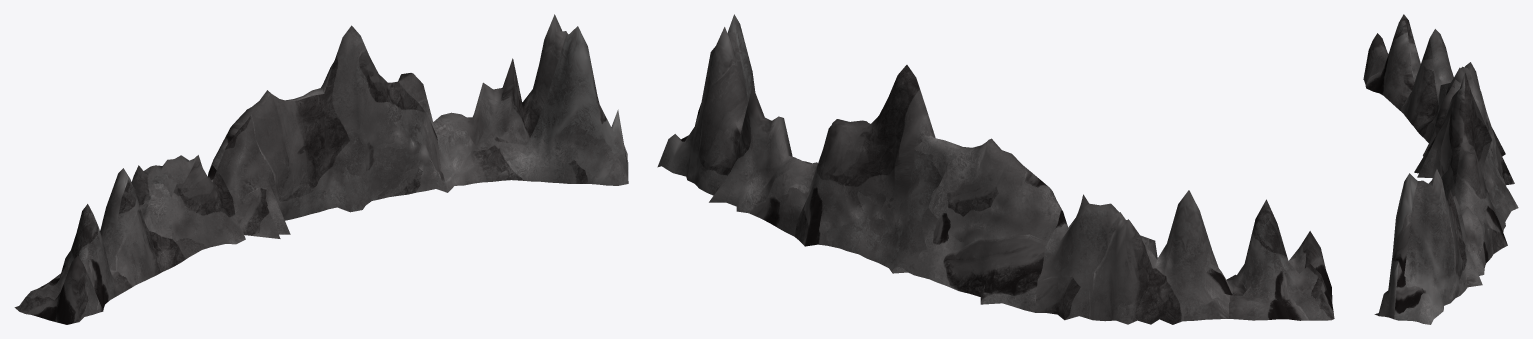
File: PedrasPontiagudas.fbx
The picture shows the model from 3 angles, left to right: view 1: azimuth 30°, elevation 25°; view 2: azimuth 150°, elevation 25°; view 3: azimuth 270°, elevation 25°; orthographic projection. The views are drawn at different scales.
Visible parts, largest first — view 1: CirculoPedrasPontiaguas; view 2: CirculoPedrasPontiaguas; view 3: CirculoPedrasPontiaguas.
Boxes of the visible parts, <box> form: CirculoPedrasPontiaguas: <box>14,14,628,324</box>; CirculoPedrasPontiaguas: <box>657,14,1334,324</box>; CirculoPedrasPontiaguas: <box>1363,14,1518,324</box>.
Size of the model in its own units: 36426 by 10320 by 9247.
